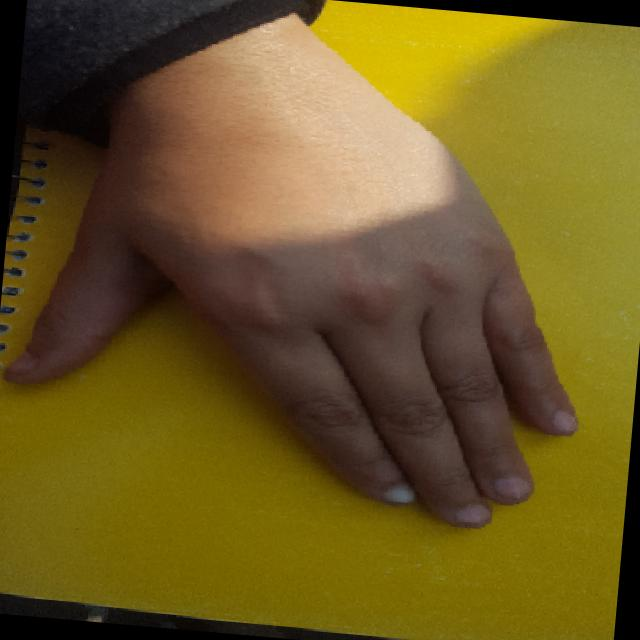Nail: (2, 349, 40, 378), (494, 477, 532, 503), (455, 504, 491, 527), (382, 483, 415, 503), (552, 410, 577, 435)
